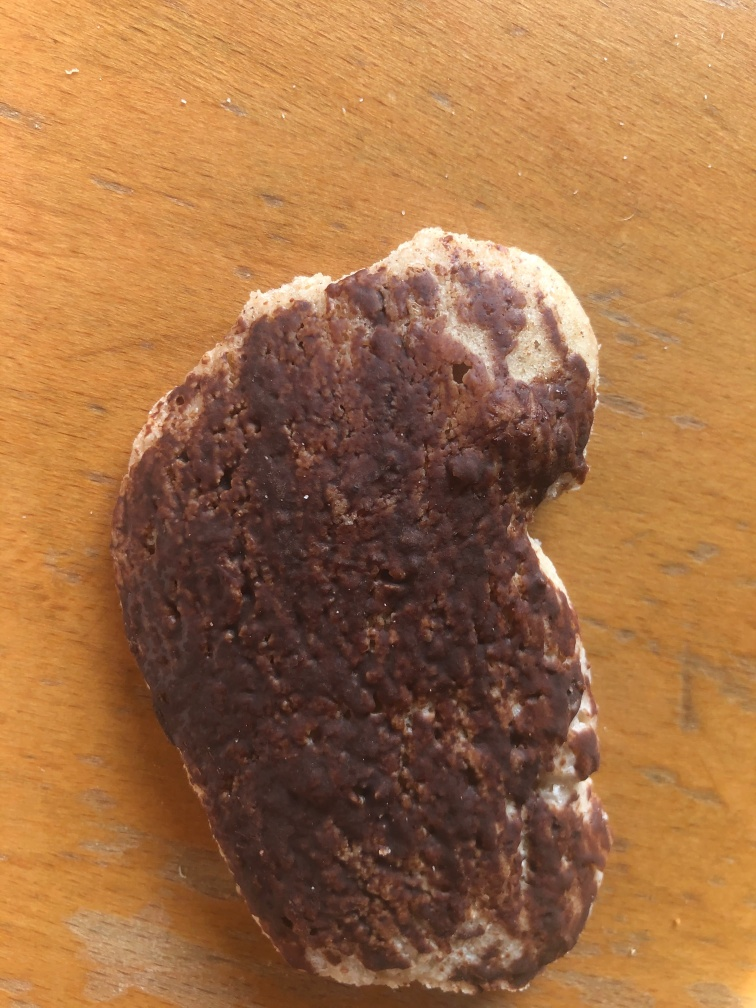weird #1: (94, 217, 618, 1008)
